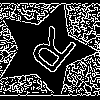R: (20, 24, 79, 83)
